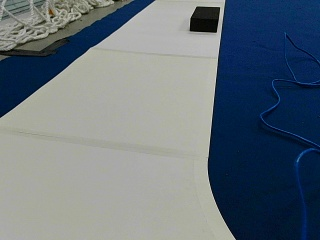block: (190, 6, 221, 31)
